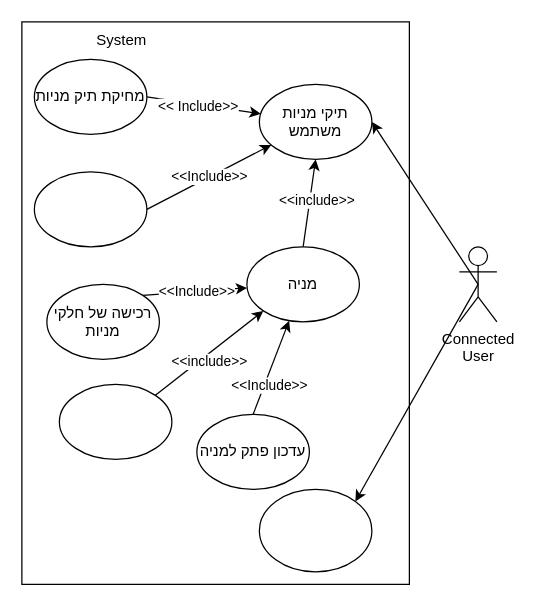
The diagram is 536 pixels wide and 606 high, and some of its shapes have lost their labels. The shapes that lost their labels are listed below. From the top down, each one's centre as x and y in pixels, then its label:
At (x=90, y=209): "הוספת תיק מניות".
At (x=115, y=421): "מכירה של חלקי מניות".
At (x=315, y=530): "צפייה בסיכום תיק ההשקעות".
